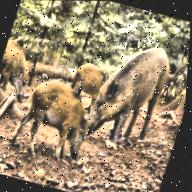boar: (88, 28, 187, 154), (11, 66, 113, 163), (0, 22, 52, 95), (68, 48, 122, 106)
